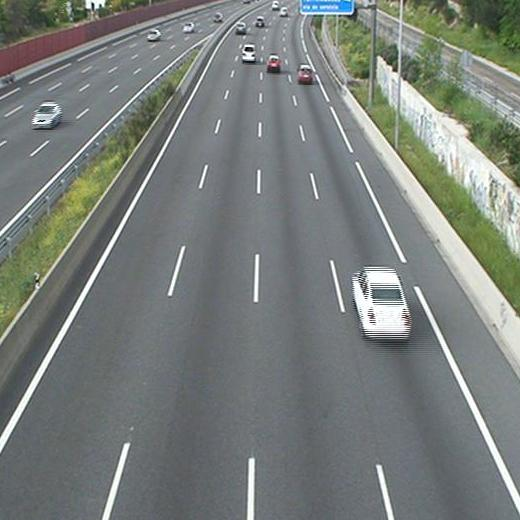car: (352, 268, 412, 339), (297, 65, 313, 84), (241, 45, 256, 62), (267, 56, 281, 70), (235, 21, 246, 34), (254, 16, 264, 27), (279, 7, 289, 17), (271, 1, 279, 9)
